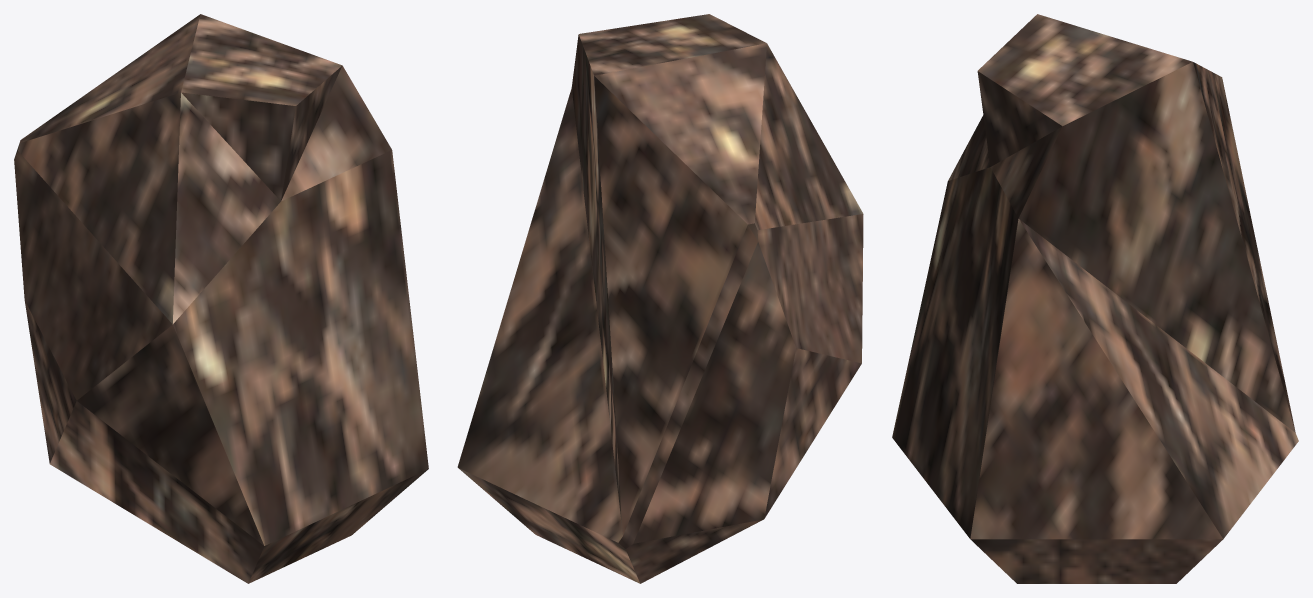
Rendered from Rock_v3.fbx.
The picture shows the model from 3 angles, left to right: view 1: azimuth 30°, elevation 25°; view 2: azimuth 150°, elevation 25°; view 3: azimuth 270°, elevation 25°; orthographic projection. The views are drawn at different scales.
Visible parts, largest first — view 1: Rock3; view 2: Rock3; view 3: Rock3.
Boxes of the visible parts, x1=… form: Rock3: x1=14, y1=14, x2=428, y2=583; Rock3: x1=457, y1=14, x2=863, y2=583; Rock3: x1=892, y1=14, x2=1298, y2=583.
Size of the model in its own units: 155 by 224 by 169.
